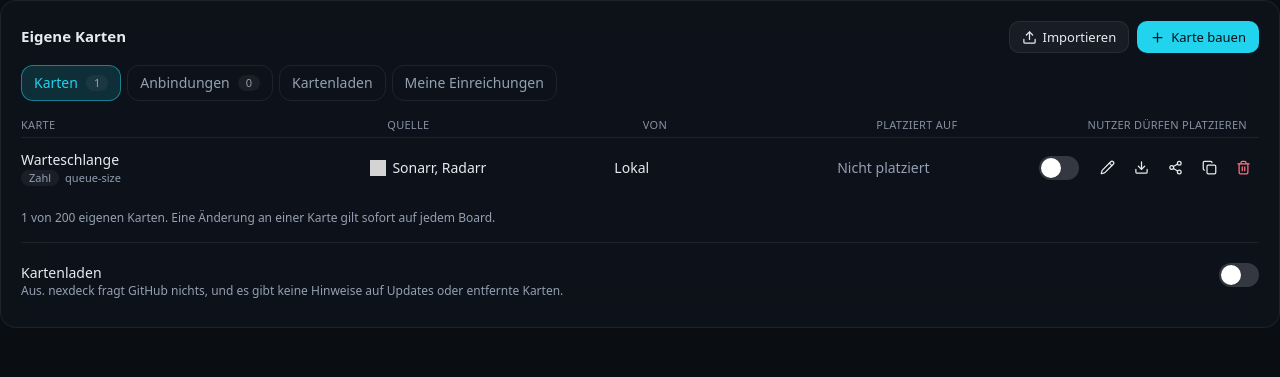
it: changing a card › karten11 ac8: a copy refused because there are 200 cards says so in the language of the viewer
This screenshot has width=1280, height=377.
Click the button named "Warteschlange duplizieren" at (1209, 168), box [1193,152,1225,184]
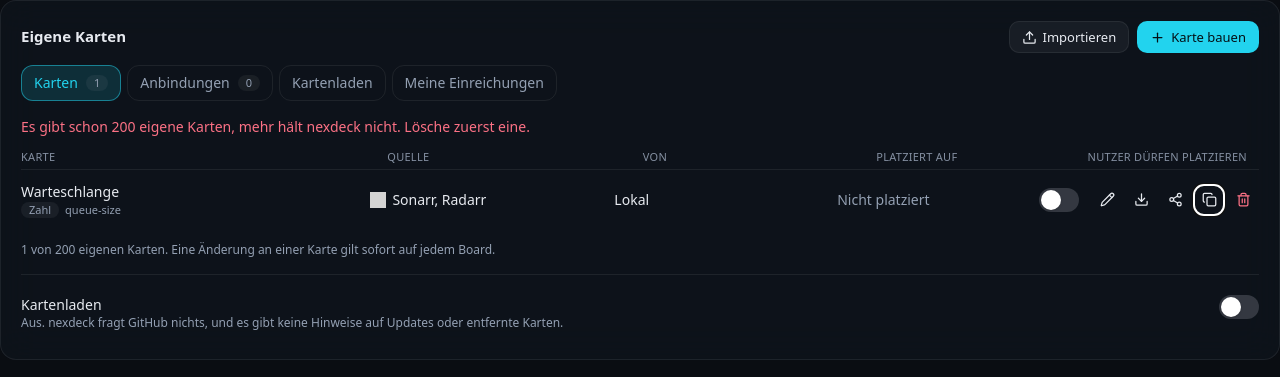
expect the text "Es gibt schon 200 eigene Karten, mehr hält nexdeck nicht. Lösche zuerst eine." is shown: met, box [21,117,530,136]
